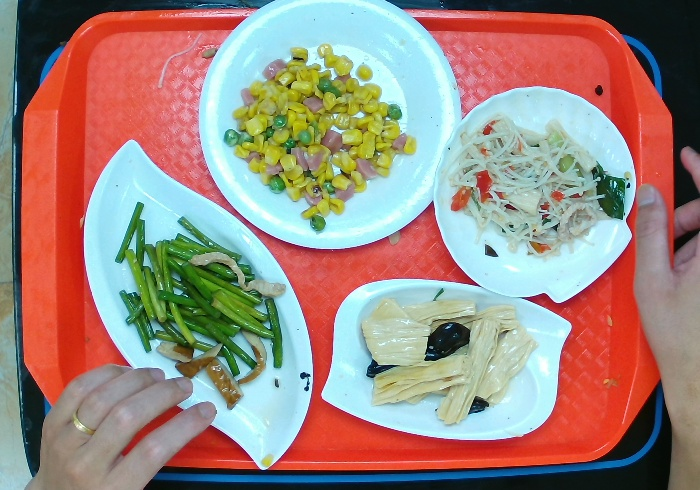RJxy-Bei_Ke_Wan: (430, 83, 645, 311)
RJxy-Jian_Jiao_Fang_Die: (316, 270, 574, 446)
RJxy-Jian_Jiao_Pan: (78, 135, 313, 476)
RJxy-Yuan_Pan: (188, 1, 471, 253)
